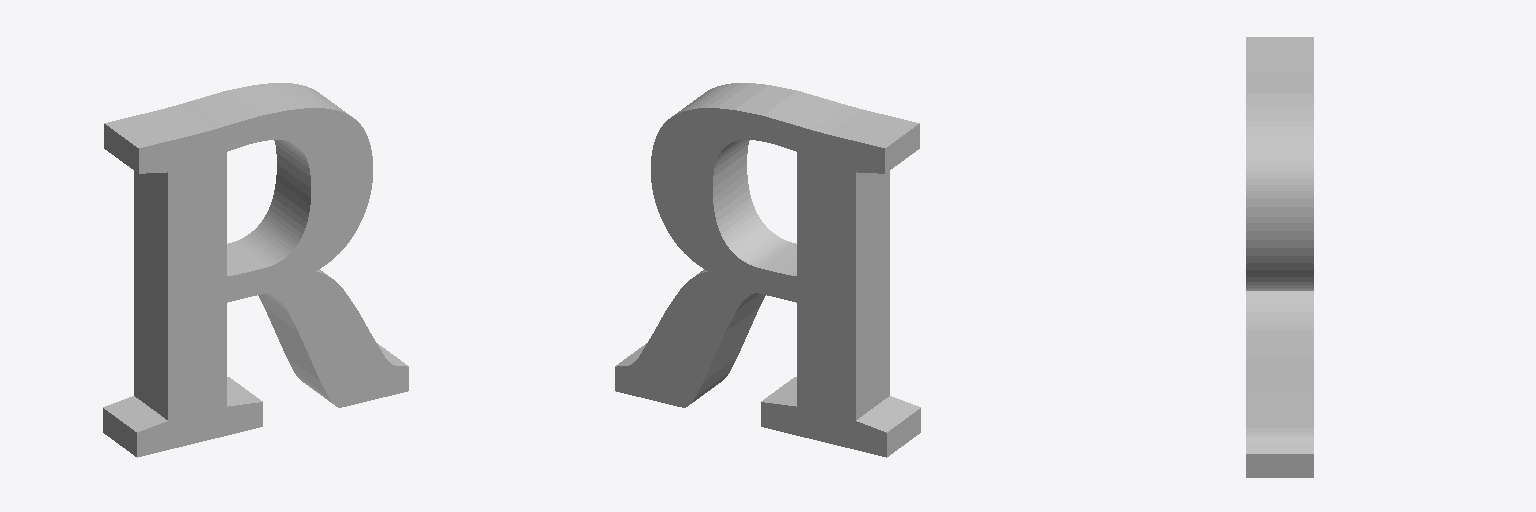
3 renders of one model, left to right at view 1: azimuth 30°, elevation 25°; view 2: azimuth 150°, elevation 25°; view 3: azimuth 270°, elevation 25°, orthographic.
Parts seen in each view (by area): view 1: Cap_1, Extrude; view 2: Cap_2, Extrude; view 3: Extrude.
Boxes of the visible parts, x1=… form: Cap_1: x1=137, y1=108, x2=408, y2=457; Extrude: x1=103, y1=83, x2=408, y2=456; Cap_2: x1=615, y1=108, x2=886, y2=457; Extrude: x1=615, y1=83, x2=920, y2=456; Extrude: x1=1246, y1=37, x2=1313, y2=477.
Bounding box in the file's own units: 137 × 150 × 30.